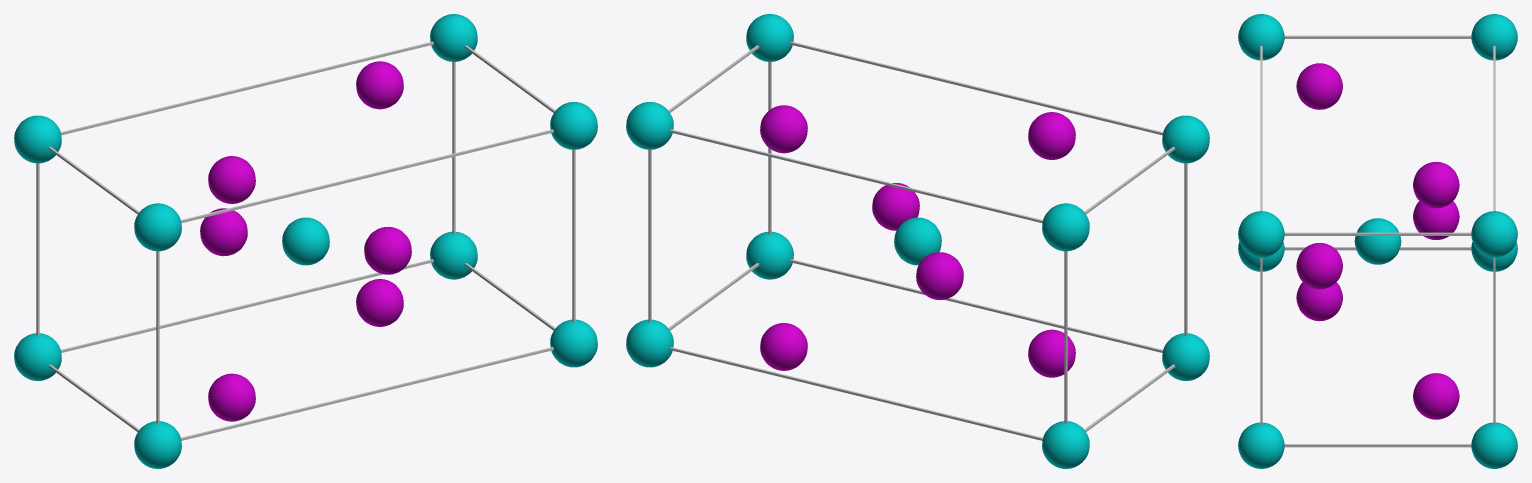
The model's file is rutilo_centrado.glb.
3 views of the same model, side by side, from view 1: azimuth 30°, elevation 25°; view 2: azimuth 150°, elevation 25°; view 3: azimuth 270°, elevation 25° (orthographic). The views are drawn at different scales.
Parts seen in each view (by area): view 1: arista13; view 2: arista13; view 3: arista13.
Boxes of the visible parts, <box> form: arista13: <box>14,14,597,468</box>; arista13: <box>626,14,1209,468</box>; arista13: <box>1238,14,1517,468</box>.
Bounding box in the file's own units: 2.2 × 1.2 × 1.2.
